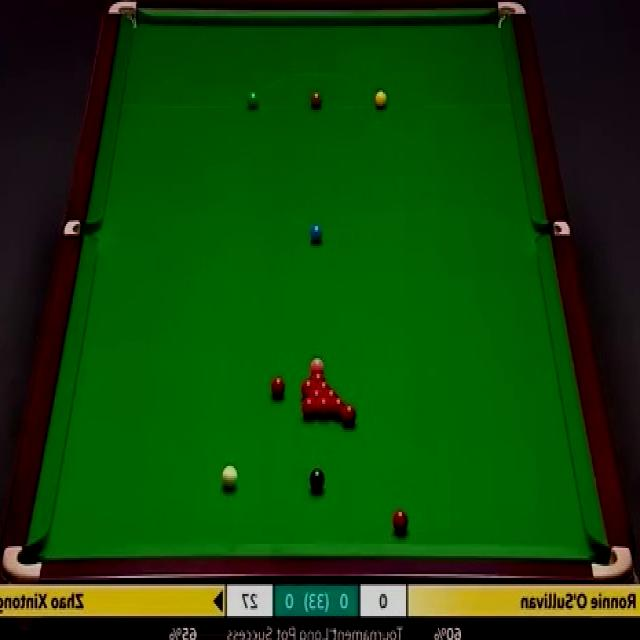black-ball: (308, 468, 326, 494)
blue-ball: (311, 222, 326, 244)
brown-ball: (309, 90, 321, 110)
green-ball: (247, 89, 260, 110)
pink-ball: (310, 356, 326, 371)
red-ball: (392, 509, 408, 536), (301, 397, 316, 420), (330, 397, 345, 418), (272, 376, 286, 398), (343, 404, 357, 426), (316, 398, 331, 418), (301, 378, 315, 396), (322, 389, 338, 400), (307, 389, 323, 400), (315, 380, 331, 391), (310, 371, 326, 381)
white-ball: (222, 464, 238, 490)
yellow-ball: (375, 90, 387, 110)
